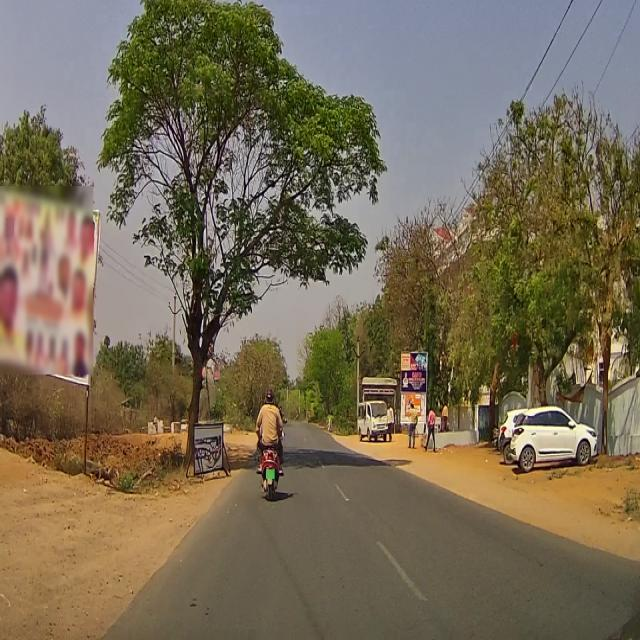car ahead at: (507, 409, 601, 479)
motorcycle ahead at: (252, 440, 290, 504)
